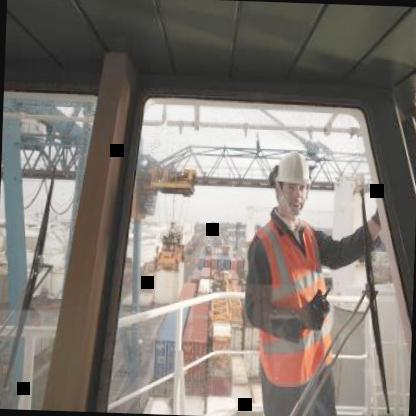helmet: (268, 148, 316, 220)
